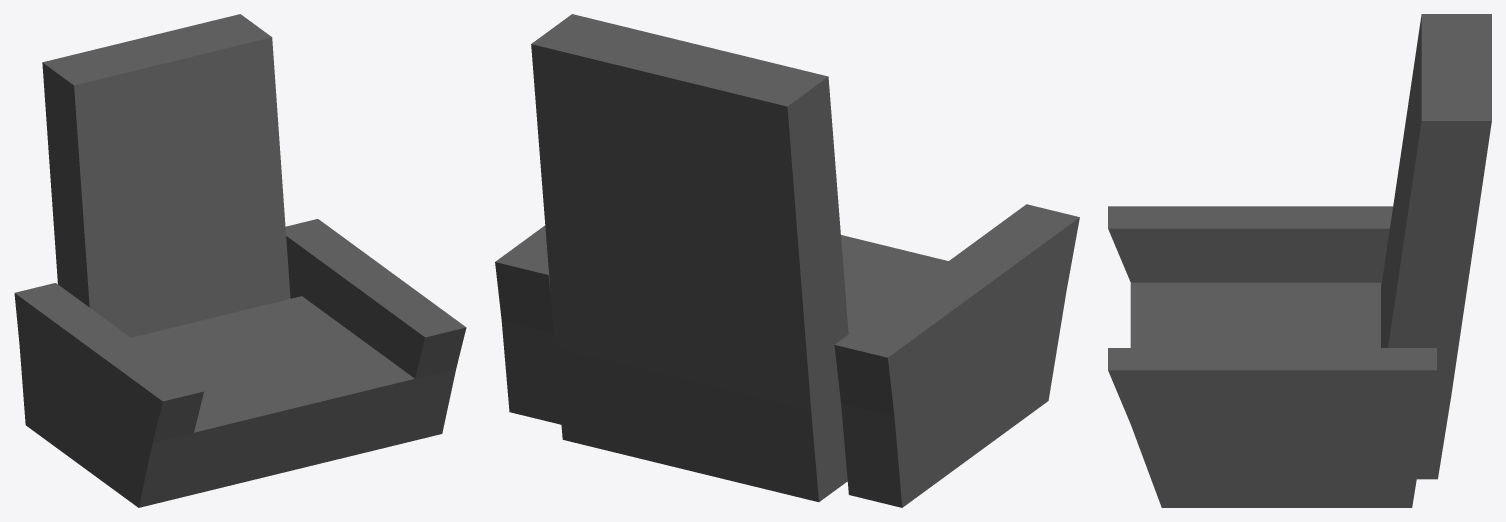
The model's file is SM_Chair.fbx.
The picture shows the model from 3 angles, left to right: view 1: azimuth 30°, elevation 25°; view 2: azimuth 150°, elevation 25°; view 3: azimuth 270°, elevation 25°; orthographic projection. The views are drawn at different scales.
Visible parts, largest first — view 1: Chair; view 2: Chair; view 3: Chair.
Part boxes in pixels (bbox=[...]): Chair: bbox=[14, 14, 466, 507]; Chair: bbox=[495, 14, 1079, 507]; Chair: bbox=[1108, 14, 1491, 507].
Bounding box in the file's own units: 1.37 × 1.4 × 1.36.
1 material, 1 textured.
